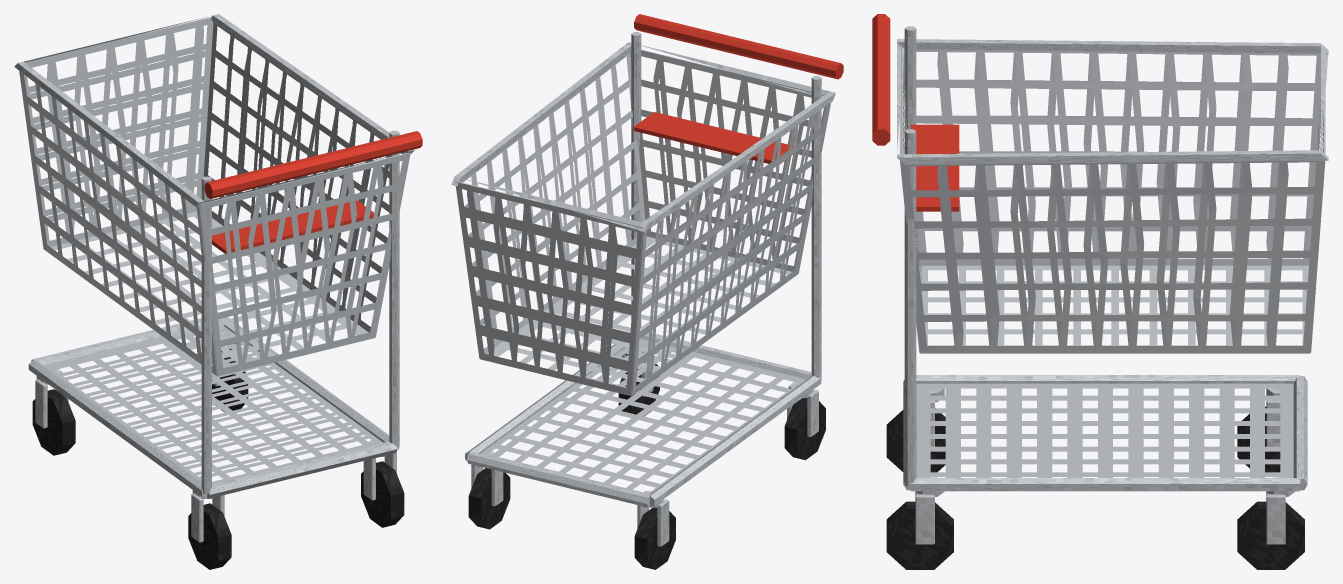
Rendered from vehicle_shopping_cart.glb.
3 renders of one model, left to right at view 1: azimuth 30°, elevation 25°; view 2: azimuth 150°, elevation 25°; view 3: azimuth 270°, elevation 25°, orthographic. The views are drawn at different scales.
Visible parts, largest first — view 1: block_wall2, block_tray, block_wall0, block_wall3, block_wall1, block_floor, block_handle, block_strut1, block_strut-1, block_side-0.25, block_end0.4, block_rail3 (+10 smaller); view 2: block_wall0, block_wall3, block_tray, block_wall1, block_wall2, block_floor, block_handle, block_seat, block_strut-1, block_side-0.25, block_end-0.4, block_rail3 (+11 smaller); view 3: block_wall1, block_wall3, block_tray, block_floor, block_side0.25, block_rail1, block_rail3, block_strut1, block_side-0.25, block_w0.23-0.36, block_w0.230.36, block_seat (+9 smaller).
Part boxes in pixels (x1,y1,x2,y2): block_wall2: (200,153,410,375); block_tray: (44,325,383,484); block_wall0: (24,17,213,246); block_wall3: (19,71,217,375); block_wall1: (203,22,410,336); block_floor: (50,211,374,376); block_handle: (204,131,422,198); block_strut1: (389,130,399,447); block_strut-1: (201,176,211,494); block_side-0.25: (28,360,206,498); block_end0.4: (207,441,397,498); block_rail3: (14,61,204,206); block_wall0: (455,181,642,395); block_wall3: (631,103,830,395); block_tray: (480,339,806,494); block_wall1: (455,53,645,358); block_wall2: (630,49,825,271); block_floor: (480,236,791,396); block_handle: (634,14,843,79); block_seat: (633,112,793,164); block_strut-1: (811,76,821,379); block_side-0.25: (649,376,821,507); block_end-0.4: (466,452,649,507); block_rail3: (639,91,835,231); block_wall1: (901,160,1324,353); block_wall3: (903,49,1320,265); block_tray: (917,383,1293,477); block_floor: (920,265,1309,353); block_side0.25: (910,478,1300,491); block_rail1: (897,150,1328,164); block_rail3: (897,39,1328,53); block_strut1: (904,129,916,486); block_side-0.25: (916,375,1300,388); block_w0.23-0.36: (1237,501,1304,569); block_w0.230.36: (886,501,953,569); block_seat: (910,124,959,211).
Size of the model in its own units: 0.576 by 1.01 by 0.9365.
3 materials, 3 textured.
